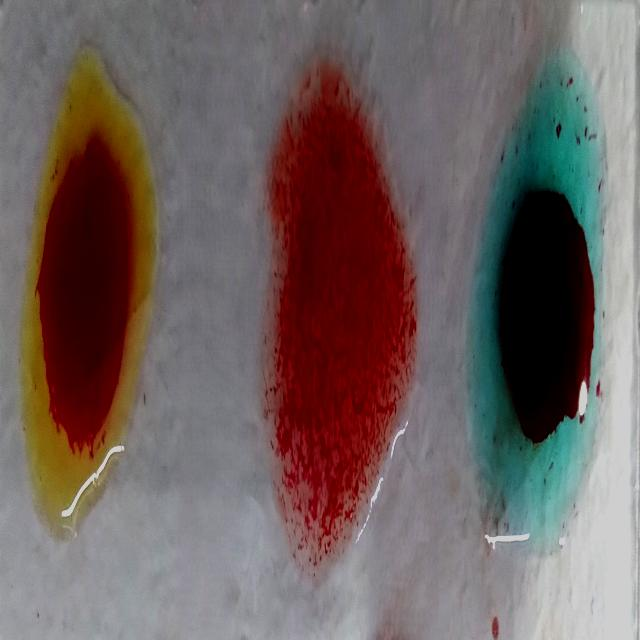A: (471, 39, 600, 556)
B: (30, 58, 149, 528)
D: (268, 60, 414, 578)
